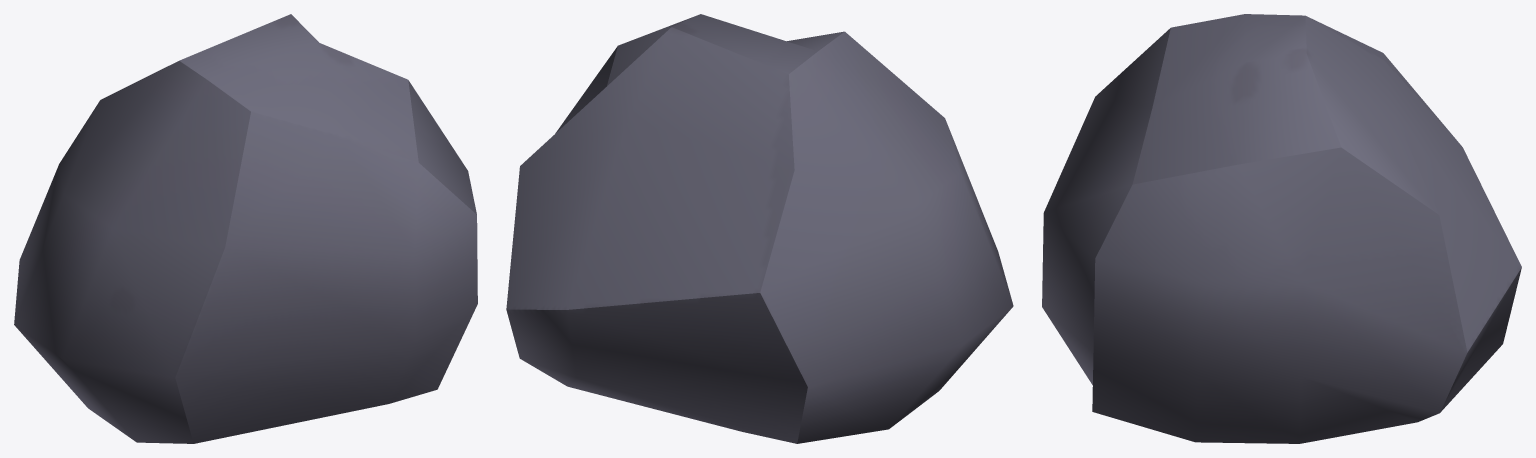
Rendered from rock_2.fbx.
3 renders of one model, left to right at view 1: azimuth 30°, elevation 25°; view 2: azimuth 150°, elevation 25°; view 3: azimuth 270°, elevation 25°, orthographic. The views are drawn at different scales.
Visible parts, largest first — view 1: rock_2; view 2: rock_2; view 3: rock_2.
Boxes of the visible parts, box(x1,y1,x2,y2) form: rock_2: box(14, 14, 477, 443); rock_2: box(506, 14, 1013, 443); rock_2: box(1042, 14, 1521, 443).
Size of the model in its own units: 1.11 by 0.9128 by 1.06.
